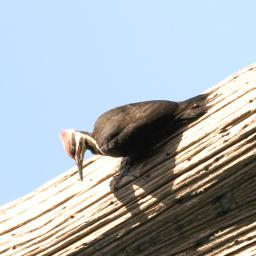Woodpecker: (57, 56, 232, 206)
